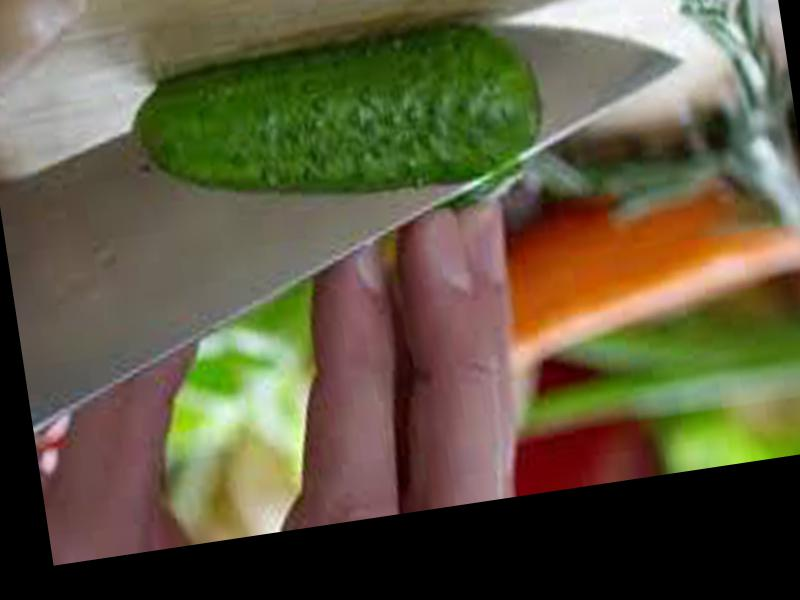Cucumber: (128, 6, 552, 229)
